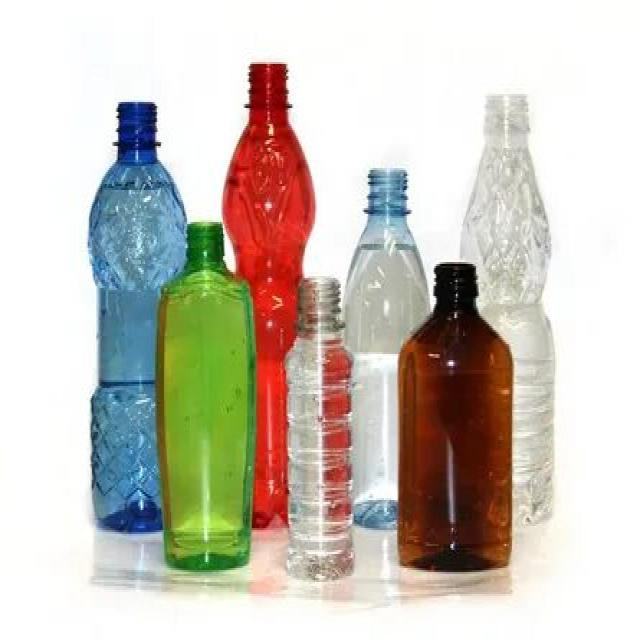blue: (346, 165, 428, 320)
brown: (398, 260, 513, 573)
green: (158, 222, 255, 570)
